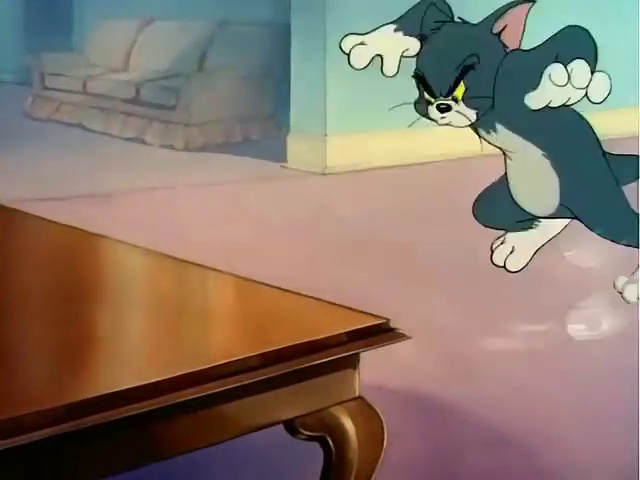tom: (335, 4, 640, 313)
